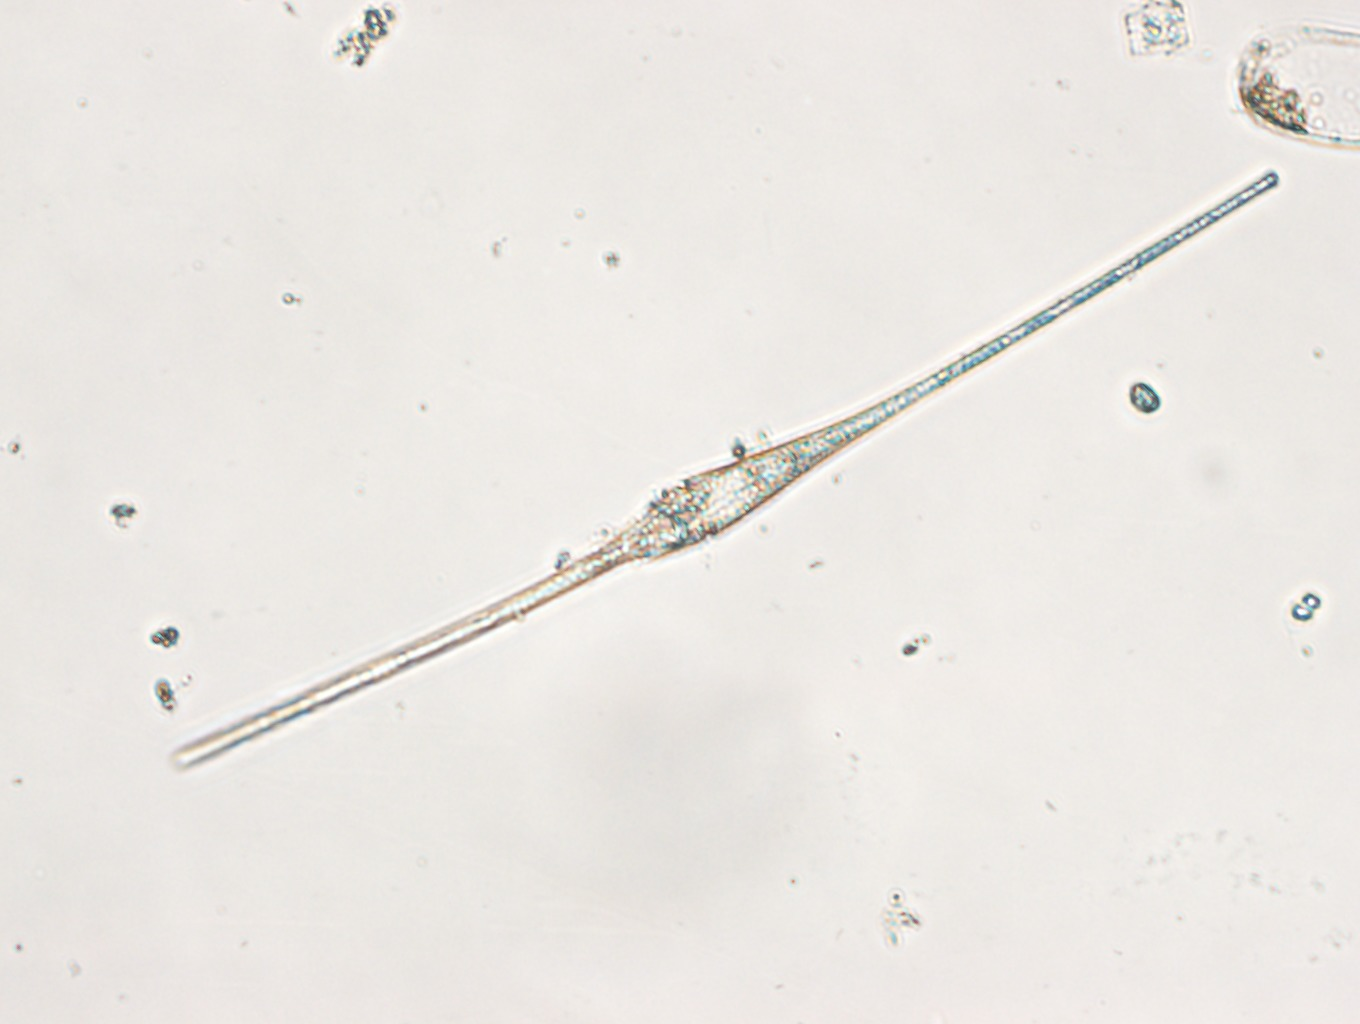ceratium fusus: (167, 169, 1287, 776)
